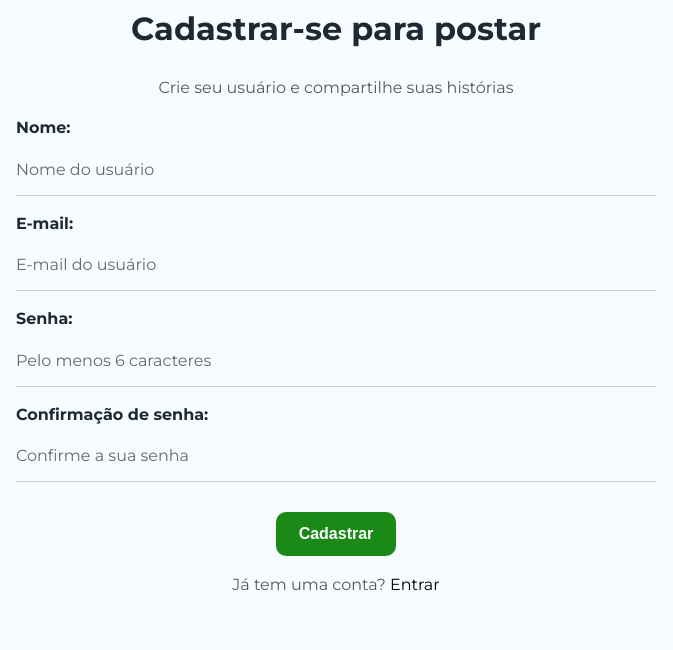
impede cadastro quando as senhas são diferentes
This screenshot has width=673, height=650.
Type "Autora" into the field labelled "Nome:" at (336, 171), box x1=16 y1=145 x2=656 y2=196
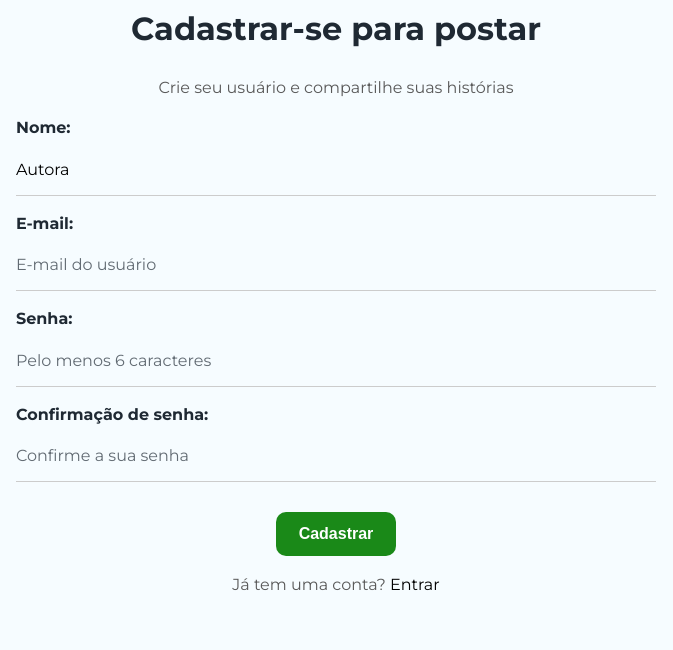
Type "author@example.com" into the field labelled "E-mail:" at (336, 266), box x1=16 y1=241 x2=656 y2=291
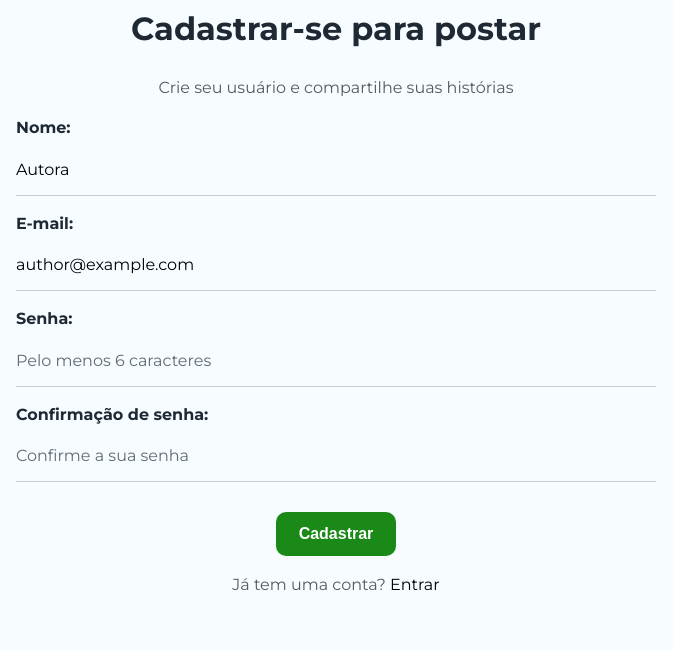
Type "secret1" into the password field labelled "Senha:" at (336, 361), box x1=16 y1=336 x2=656 y2=387
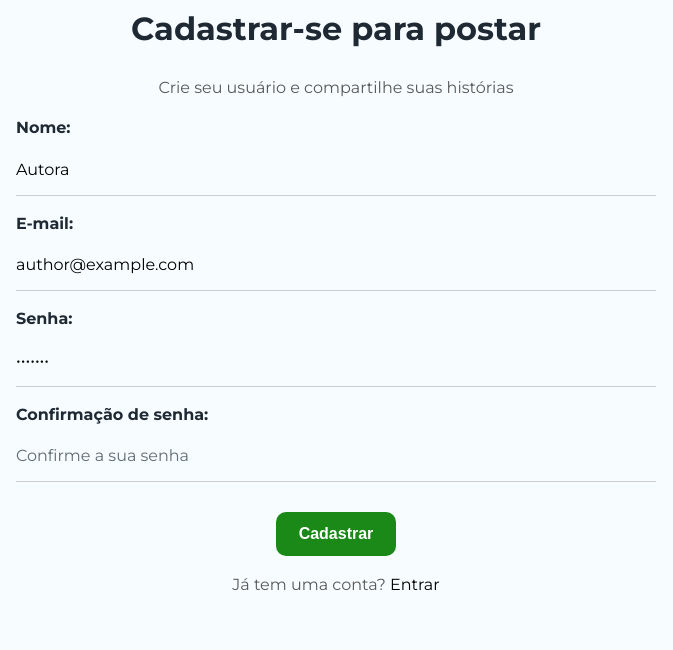
Type "different" into the password field labelled "Confirmação de senha:" at (336, 457), box x1=16 y1=431 x2=656 y2=482
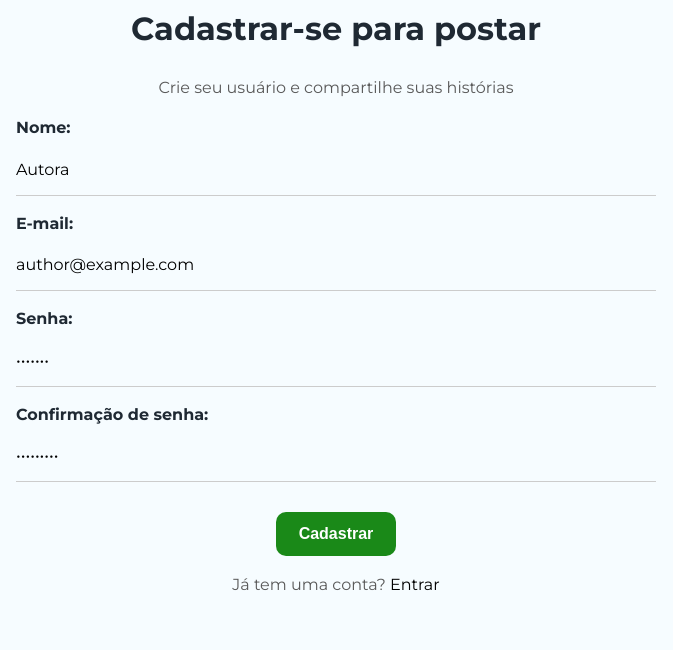
Click the button "Cadastrar" at (336, 534), box x1=276 y1=512 x2=396 y2=556
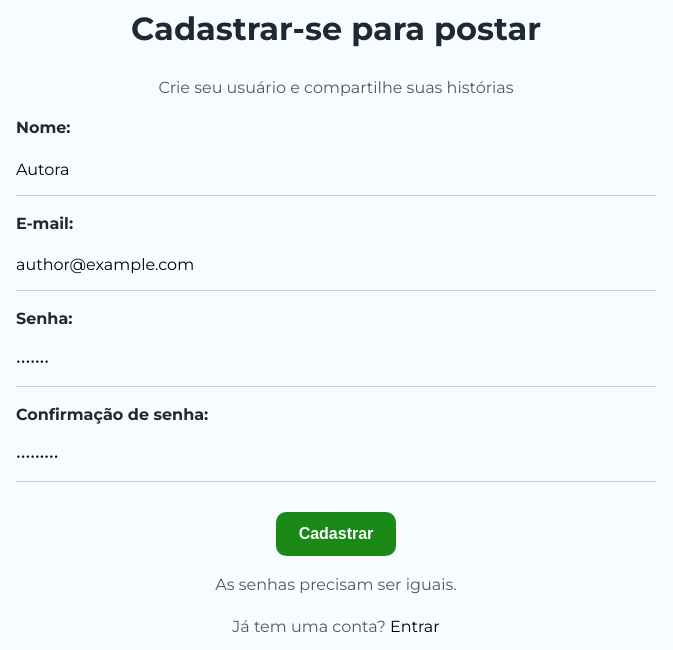
Check: the message shows "As senhas precisam ser iguais", box x1=215 y1=575 x2=457 y2=594
